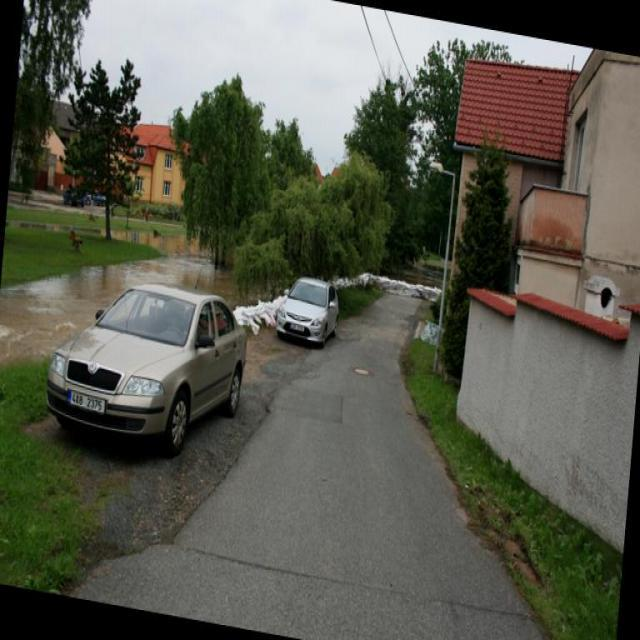flood: (0, 196, 246, 406)
